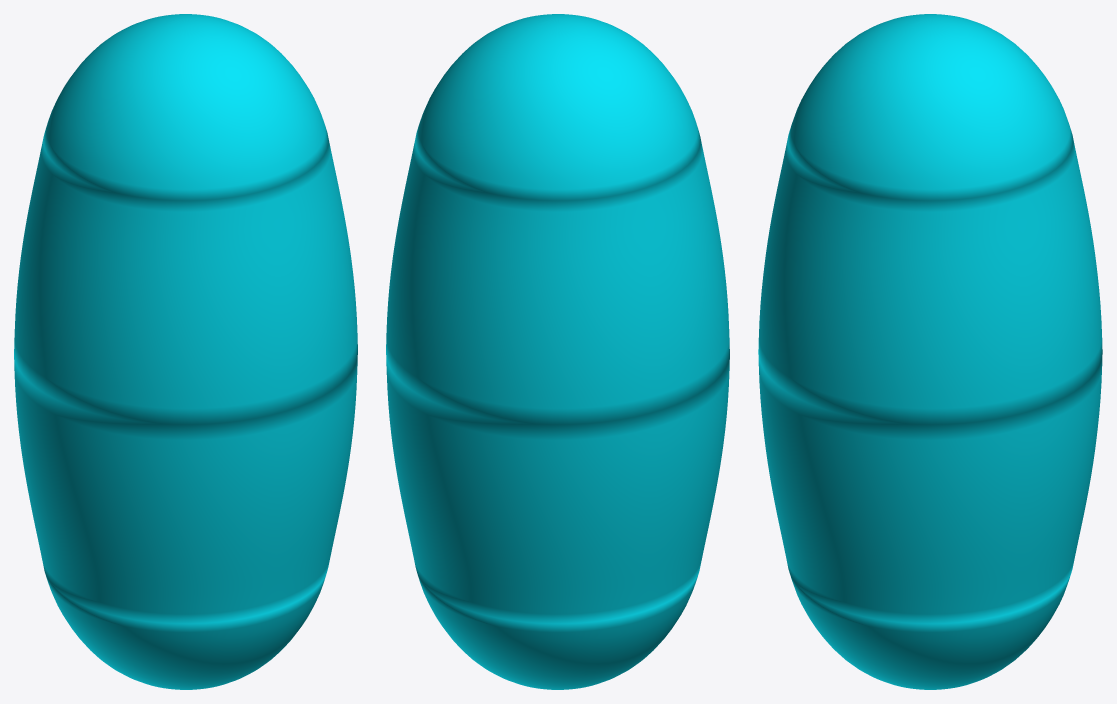
The model's file is ovale_pille.fbx.
3 views of the same model, side by side, from view 1: azimuth 30°, elevation 25°; view 2: azimuth 150°, elevation 25°; view 3: azimuth 270°, elevation 25° (orthographic).
Parts seen in each view (by area): view 1: Cylinder.002; view 2: Cylinder.002; view 3: Cylinder.002.
Boxes of the visible parts, x1,y1,x2,y2 form: Cylinder.002: [14, 14, 357, 689]; Cylinder.002: [386, 14, 729, 689]; Cylinder.002: [758, 14, 1102, 689].
Bounding box in the file's own units: 251 × 525 × 251.
